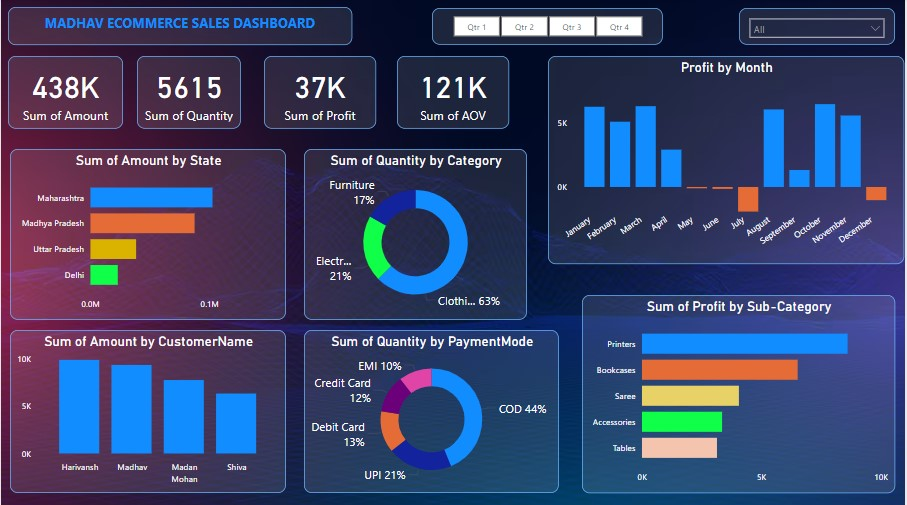

This screenshot's page, from the dashboard's own definition file:
{"tool":"powerbi","page":{"name":"Page 1","canvas":[1280,720],"ordinal":0},"visuals":[{"type":"textbox","box":[9.9,11.3,487.6,53.9],"z":0},{"type":"columnChart","title":"Profit by Month","fields":{"Y":["Detail.Profit"],"Category":["Orders csv.Order Date.Variation.Date Hierarchy.Month"]},"box":[775.3,97.8,504.6,294.8],"z":1000},{"type":"barChart","fields":{"Category":["Detail.Sub-Category"],"Y":["Detail.Profit"]},"box":[823.5,419.5,443.6,280.6],"z":2000},{"type":"donutChart","fields":{"Category":["Detail.Category"],"Y":["Detail.Quantity"]},"box":[429.4,212.6,316.1,242.4],"z":3000},{"type":"donutChart","fields":{"Y":["Detail.Quantity"],"Category":["Detail.PaymentMode"]},"box":[429.4,469.1,361.4,231],"z":4000},{"type":"card","fields":{"Values":["Detail.Amount"]},"box":[9.9,80.8,163,103.5],"z":5000},{"type":"card","fields":{"Values":["Detail.Quantity"]},"box":[192.8,80.8,147.4,103.5],"z":6000},{"type":"card","fields":{"Values":["Detail.Profit"]},"box":[372.8,80.8,158.7,103.5],"z":7000},{"type":"card","fields":{"Values":["Detail.AOV"]},"box":[561.3,80.8,158.7,103.5],"z":8000},{"type":"barChart","fields":{"Category":["Orders csv.State"],"Y":["Detail.Amount"]},"box":[12.8,212.6,391.2,242.4],"z":9000},{"type":"columnChart","fields":{"Category":["Orders csv.CustomerName"],"Y":["Detail.Amount"]},"box":[13,469,391,231],"z":10000},{"type":"slicer","fields":{"Values":["Orders csv.Order Date.Variation.Date Hierarchy.Quarter"]},"box":[610.9,12.8,327.4,52.4],"z":11000},{"type":"slicer","fields":{"Values":["Orders csv.State"]},"box":[1000.6,12.8,266.5,68],"z":12000}]}

Visuals, with their boxes in screenshot pixels (x1, y1, x2, y2), scaled from the page's 1280x720 canvas onto the 907x505 screenshot:
textbox: (left=7, top=8, right=353, bottom=46)
"Profit by Month" columnChart: (left=549, top=69, right=906, bottom=275)
barChart - Detail.Sub-Category x Detail.Profit: (left=584, top=294, right=898, bottom=491)
donutChart - Detail.Category x Detail.Quantity: (left=304, top=149, right=528, bottom=319)
donutChart - Detail.Quantity x Detail.PaymentMode: (left=304, top=329, right=560, bottom=491)
card - Detail.Amount: (left=7, top=57, right=123, bottom=129)
card - Detail.Quantity: (left=137, top=57, right=241, bottom=129)
card - Detail.Profit: (left=264, top=57, right=377, bottom=129)
card - Detail.AOV: (left=398, top=57, right=510, bottom=129)
barChart - Orders csv.State x Detail.Amount: (left=9, top=149, right=286, bottom=319)
columnChart - Orders csv.CustomerName x Detail.Amount: (left=9, top=329, right=286, bottom=491)
slicer - Orders csv.Order Date.Variation.Date Hierarchy.Quarter: (left=433, top=9, right=665, bottom=46)
slicer - Orders csv.State: (left=709, top=9, right=898, bottom=57)
